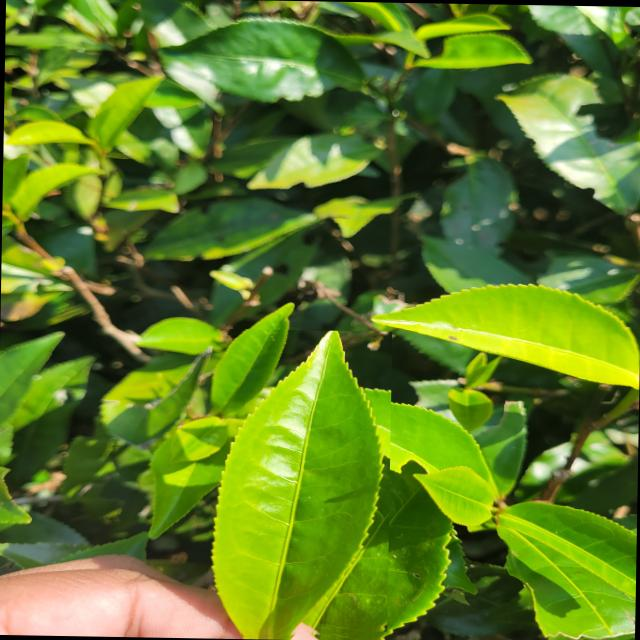Catagory A(1-2 days): (197, 327, 391, 640)
